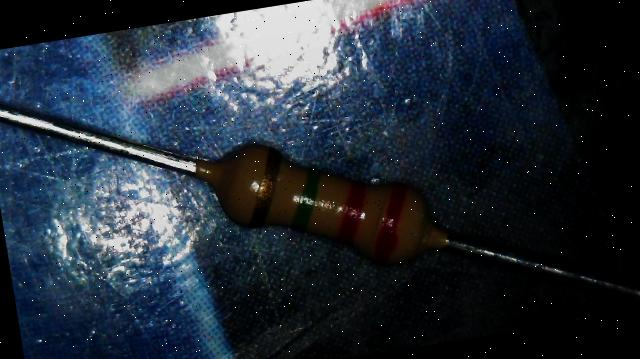gold: (238, 147, 288, 227)
green: (282, 166, 330, 234)
red: (366, 183, 416, 264), (329, 178, 372, 246)
resistor: (185, 119, 466, 283)
